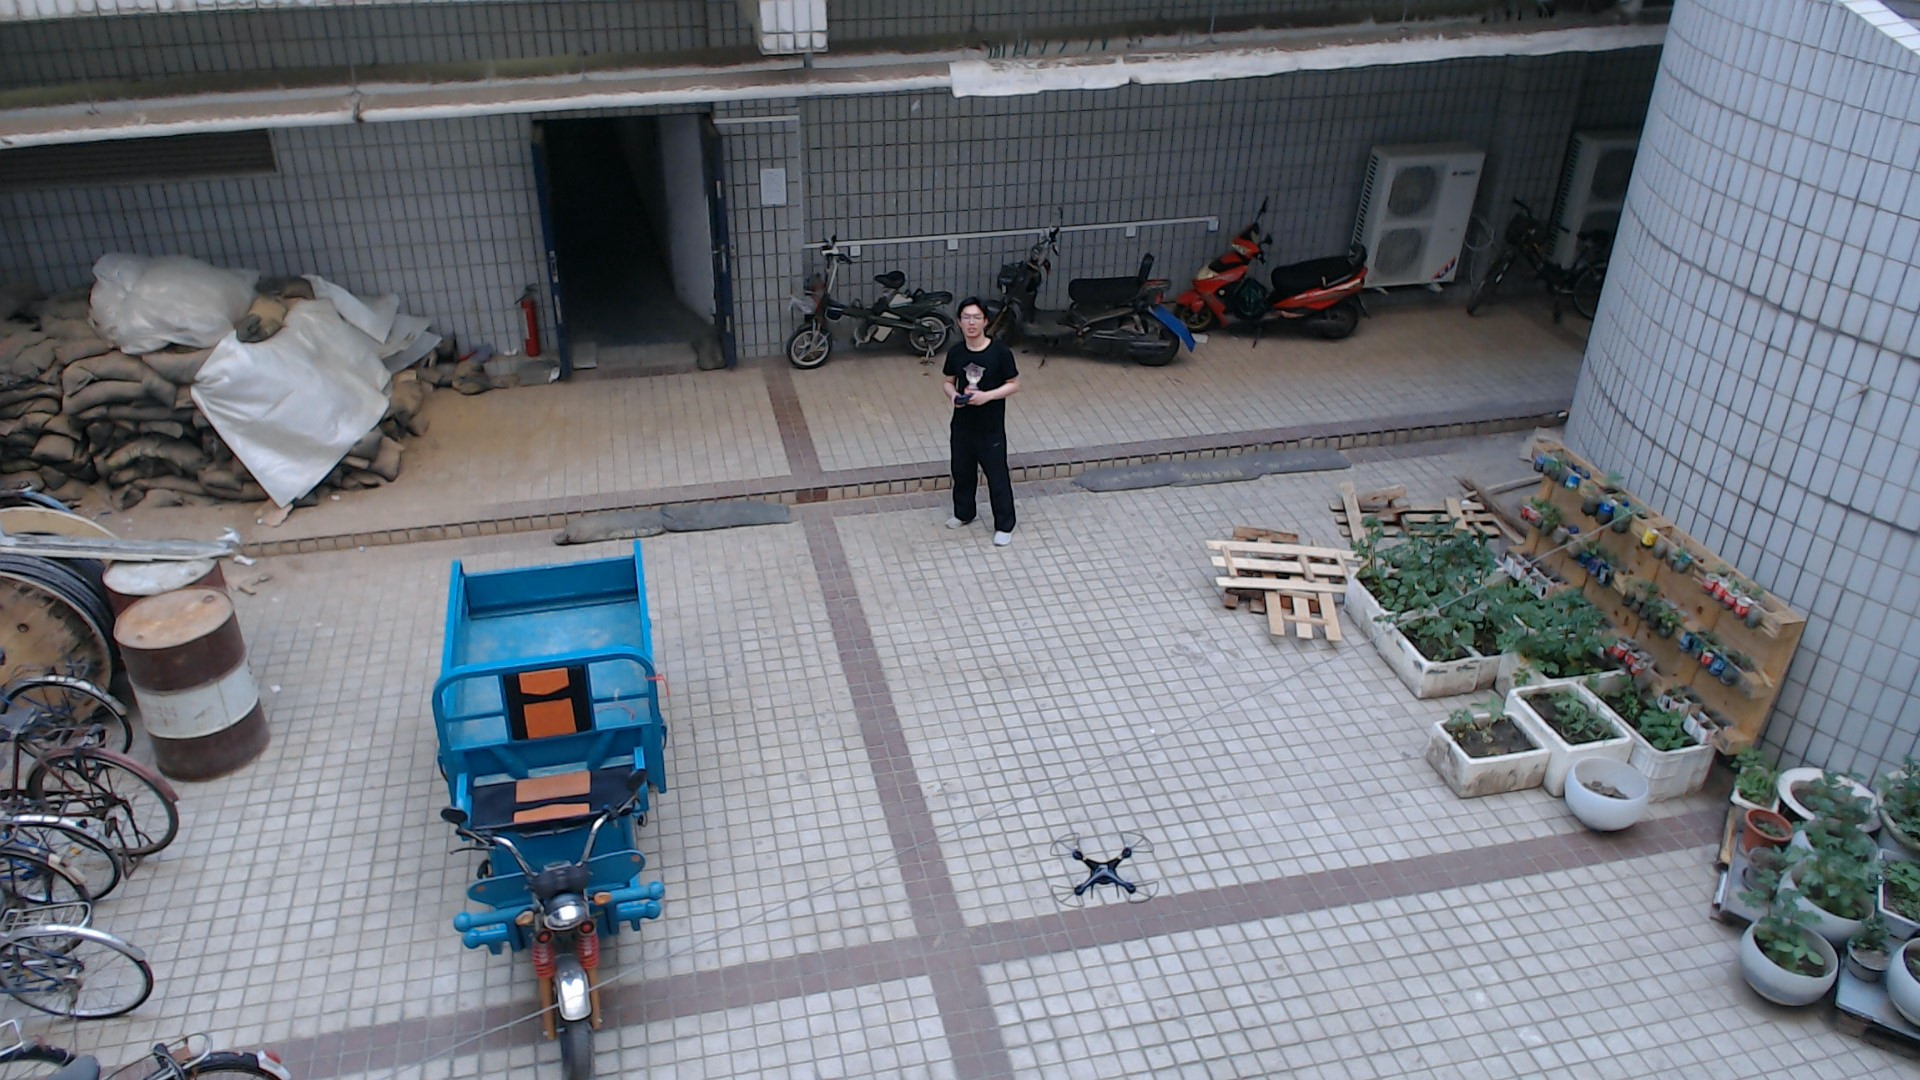drone: (1030, 799, 1178, 939)
person: (913, 266, 1044, 569)
